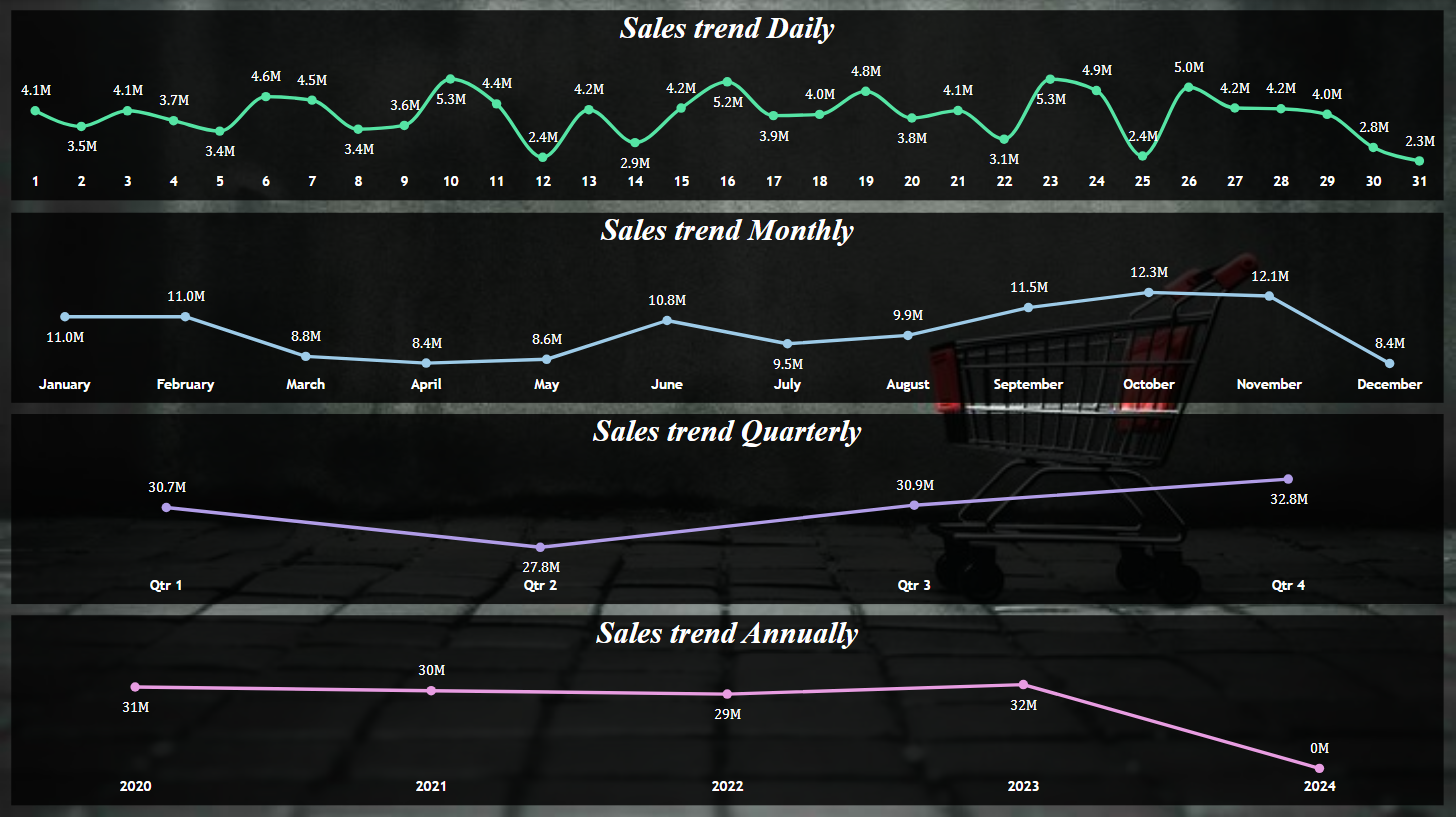

What the dashboard file says about the page in this screenshot:
{"tool":"powerbi","page":{"name":"Trends","canvas":[1280,720],"ordinal":2},"visuals":[{"type":"lineChart","title":"Sales trend Daily","fields":{"Y":["Sum(Fact Table.Net Sales)"],"Category":["Fact Table.Date (dd/mm/yyyy).Variation.Date Hierarchy.Day"]},"box":[9.7,9.7,1260.1,167],"z":0},{"type":"lineChart","title":"Sales trend Monthly","fields":{"Y":["Sum(Fact Table.Net Sales)"],"Category":["Fact Table.Date (dd/mm/yyyy).Variation.Date Hierarchy.Month"]},"box":[9.7,187.6,1260.1,167],"z":1000},{"type":"lineChart","title":"Sales trend Quarterly","fields":{"Y":["Sum(Fact Table.Net Sales)"],"Category":["Fact Table.Date (dd/mm/yyyy).Variation.Date Hierarchy.Quarter"]},"box":[9.7,365.6,1260.1,167],"z":2000},{"type":"lineChart","title":"Sales trend Annually","fields":{"Y":["Sum(Fact Table.Net Sales)"],"Category":["Fact Table.Date (dd/mm/yyyy).Variation.Date Hierarchy.Year"]},"box":[9.7,542.3,1260.1,167],"z":3000}]}

Visuals, with their boxes in screenshot pixels (x1, y1, x2, y2), scaled from the page's 1280x720 canvas onto the 1456x817 screenshot:
"Sales trend Daily" lineChart: (11, 11, 1444, 201)
"Sales trend Monthly" lineChart: (11, 213, 1444, 402)
"Sales trend Quarterly" lineChart: (11, 415, 1444, 604)
"Sales trend Annually" lineChart: (11, 615, 1444, 805)
